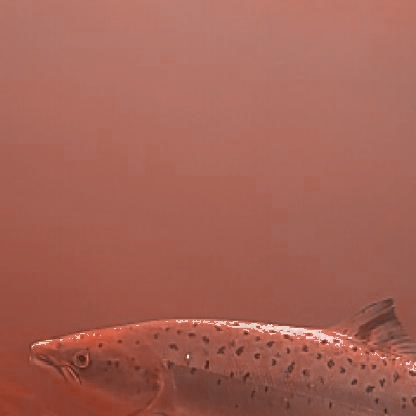salmon: (23, 291, 414, 414)
